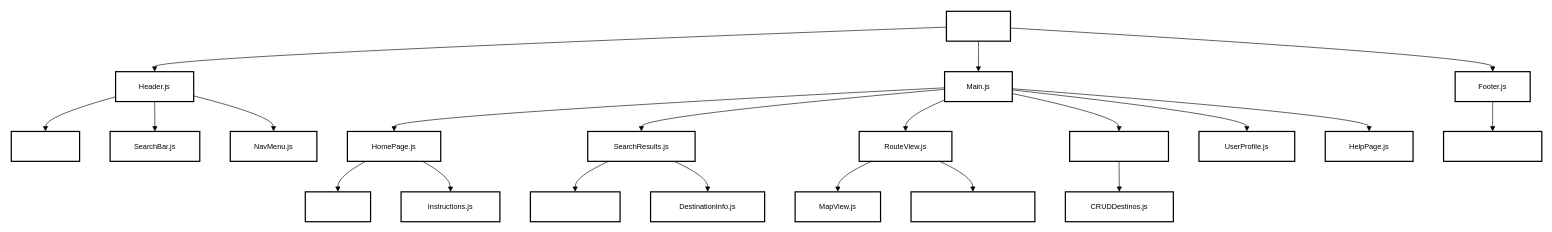
Image size: 1552x232. Some labels were removed from this diagram. The shapes that lost their labels are listed below. From the top down, each one's centre as x and y in pixels, then its label:
point (978, 25): App.js
point (45, 146): Logo.js
point (1119, 146): AdminPanel.js
point (1492, 146): FooterLinks.js
point (337, 206): Map.js
point (574, 206): ResultList.js
point (972, 206): RouteInstructions.js
